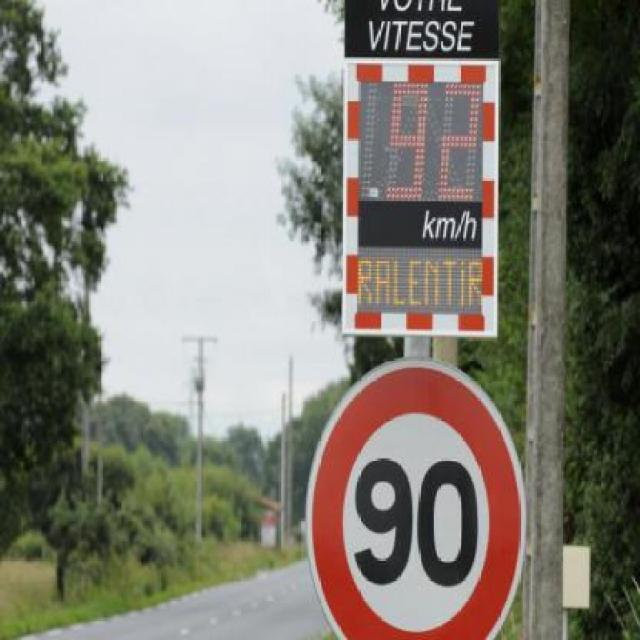Ograniczenie predkosci do 90: (311, 365, 526, 640)
